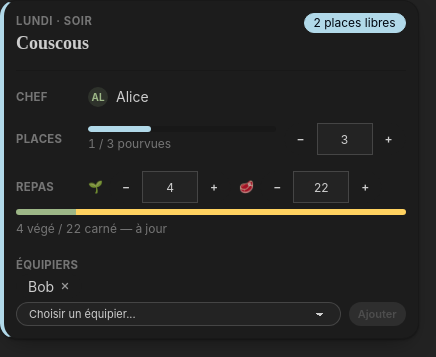
MealFichesList › groups a burst of clicks into a single PATCH and never freezes the steppers
Click the button named "Diminuer": (126,187) [109,171,143,203]
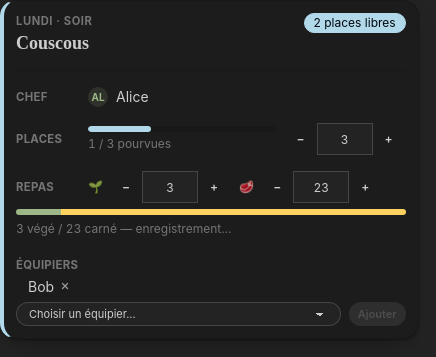
Click the button named "Diminuer": (126,187) [109,171,143,203]
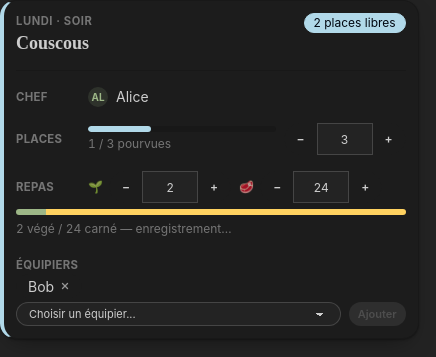
Click the button named "Diminuer": (126,187) [109,171,143,203]
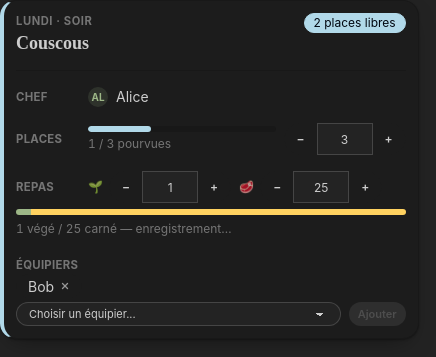
Click the button named "Diminuer": (126,187) [109,171,143,203]
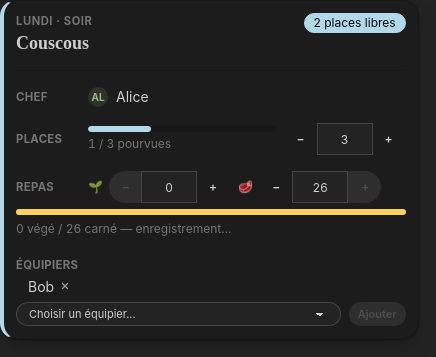
Expected: the field named "Nombre de repas végé" holds "0", [141,171,197,203]
Expected: the field named "Nombre de repas carné" holds "26", [292,171,348,203]
